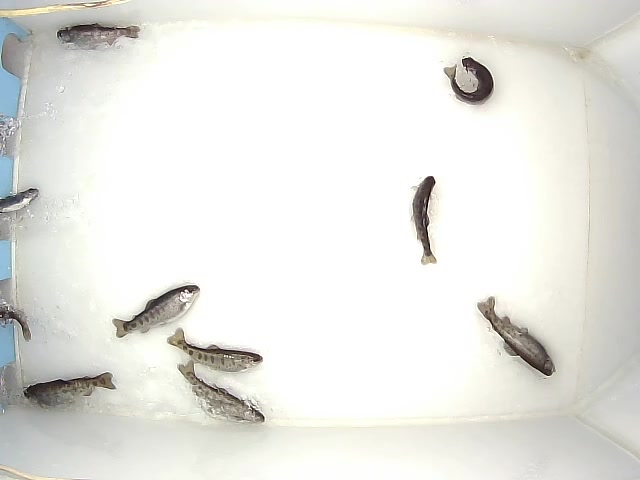fish: (473, 292, 558, 379), (173, 359, 266, 424), (109, 282, 199, 338), (166, 325, 265, 375), (21, 368, 116, 411), (56, 23, 142, 61), (441, 56, 496, 105), (411, 175, 439, 267)
